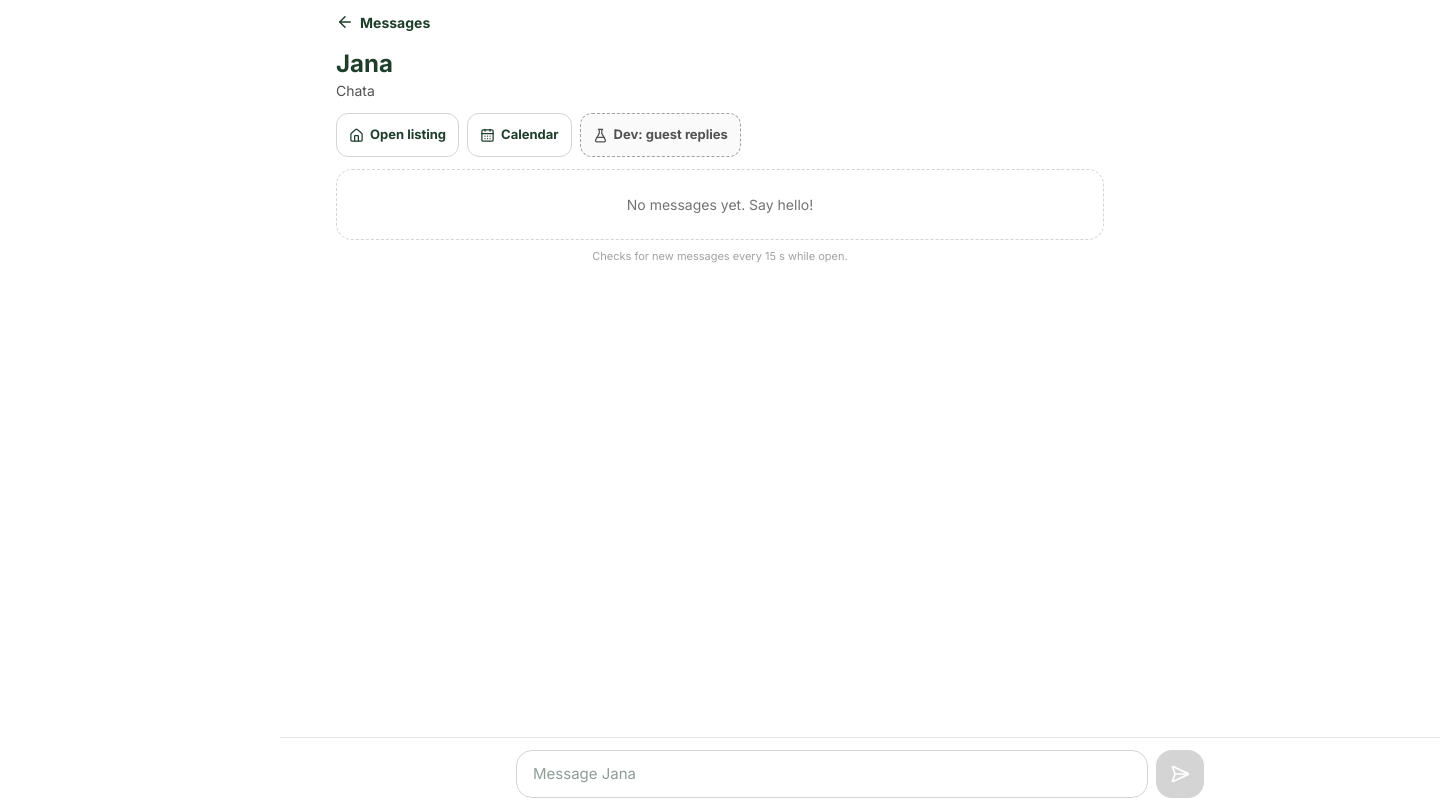
Scenario: ConversationPage failure recovery › keeps text typed during a rejected send and appends the rejected message on Edit
Step 1. Type "First message" into the text box labelled "Message" → (832, 774), box [516,750,1148,798]
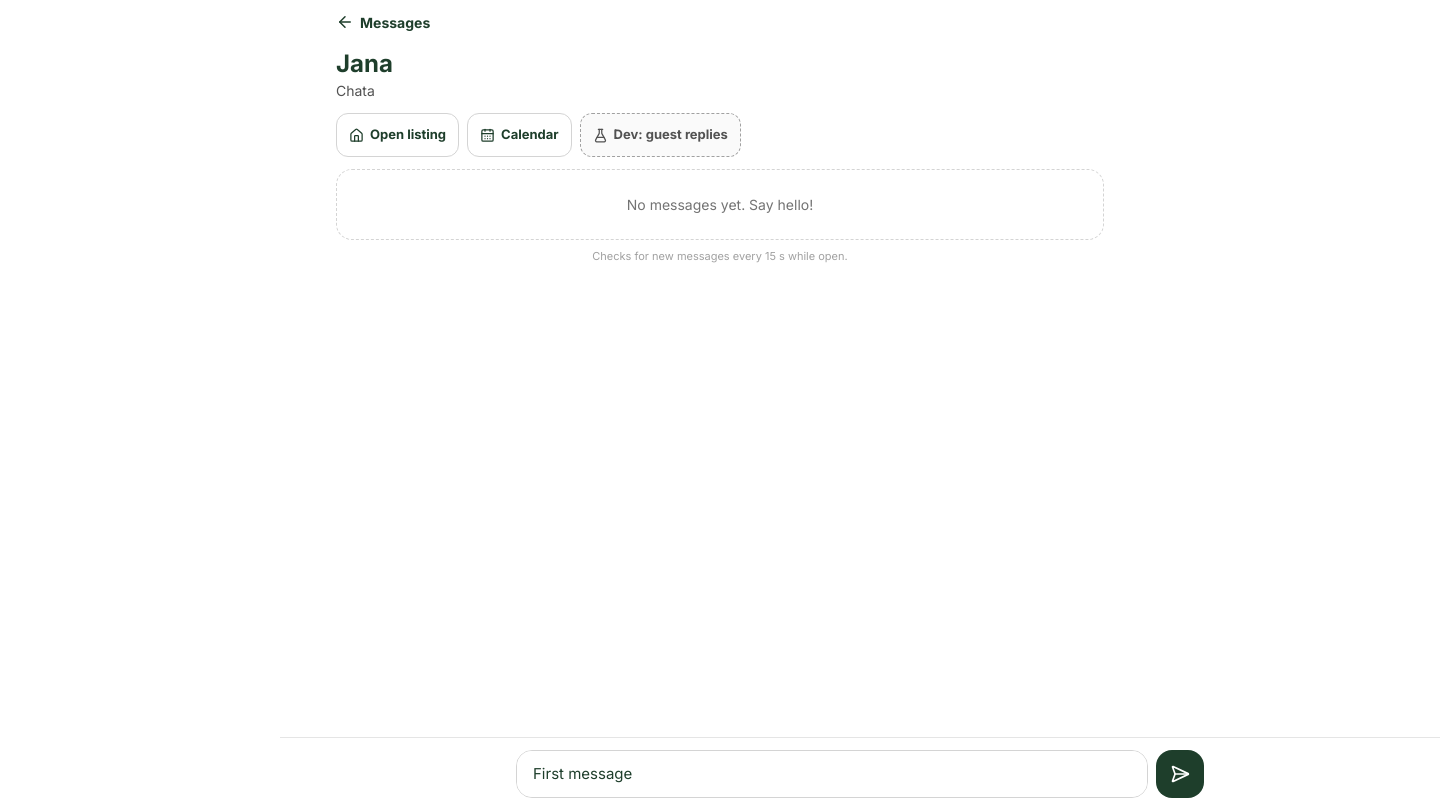
Step 2. Click the button named "Send" → (1180, 774), box [1156,750,1204,798]
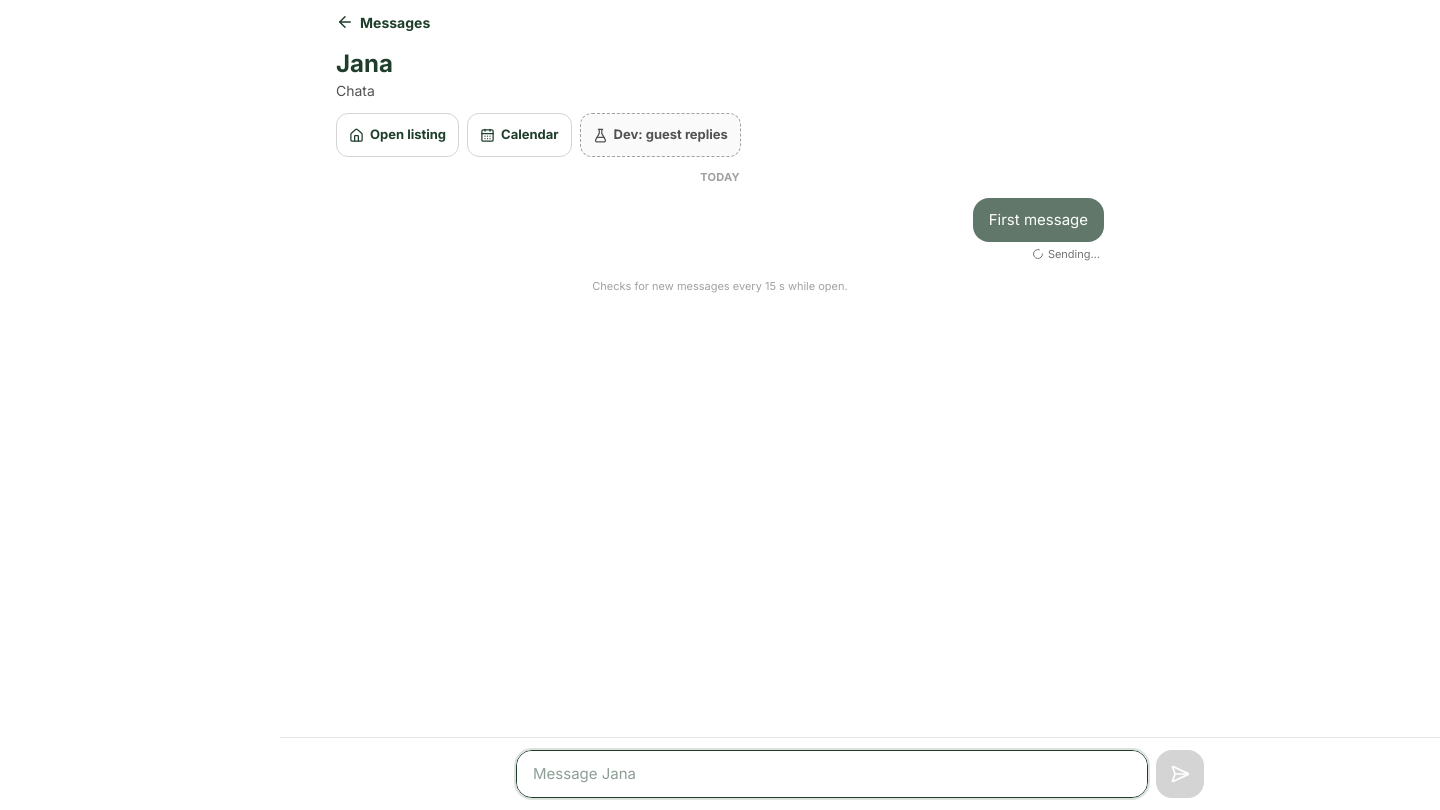
Expected: the text box labelled "Message" is empty
Expected: the text "Sending…" is shown, [1048,246,1100,262]
Note: The host keeps typing while the request is in flight…
Step 3. Type "Second thought" into the text box labelled "Message" → (832, 774), box [516,750,1148,798]
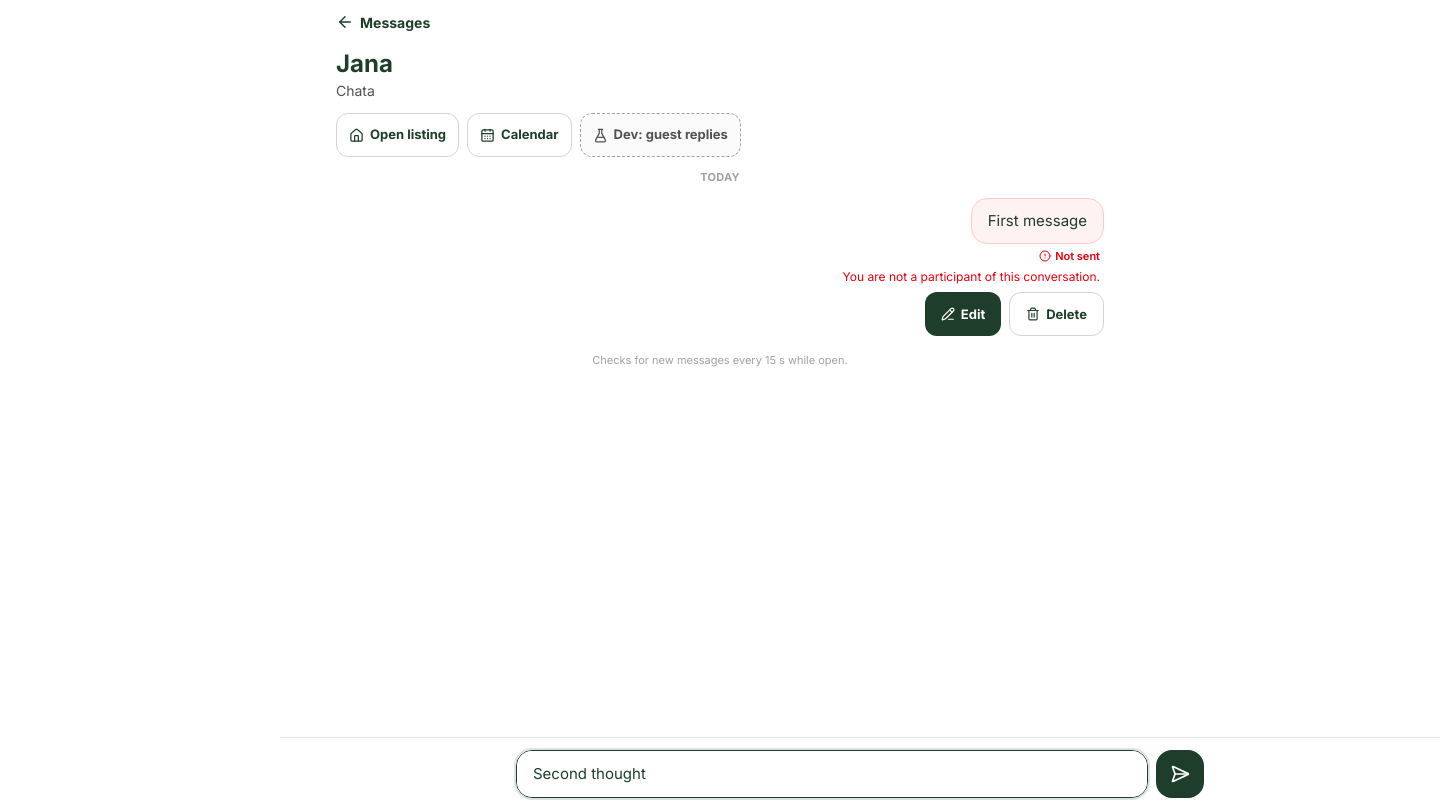
Expected: the text "First message" is shown, [971,198,1104,244]
Expected: the text "Not sent" is shown, [1055,248,1100,264]
Expected: the text "You are not a participant of this conversation." is shown, [839,268,1104,286]
Note: Edit puts the rejected text back after what the host typed meanwhile.
Step 4. Click the button "Edit" → (963, 314), box [925,292,1001,336]
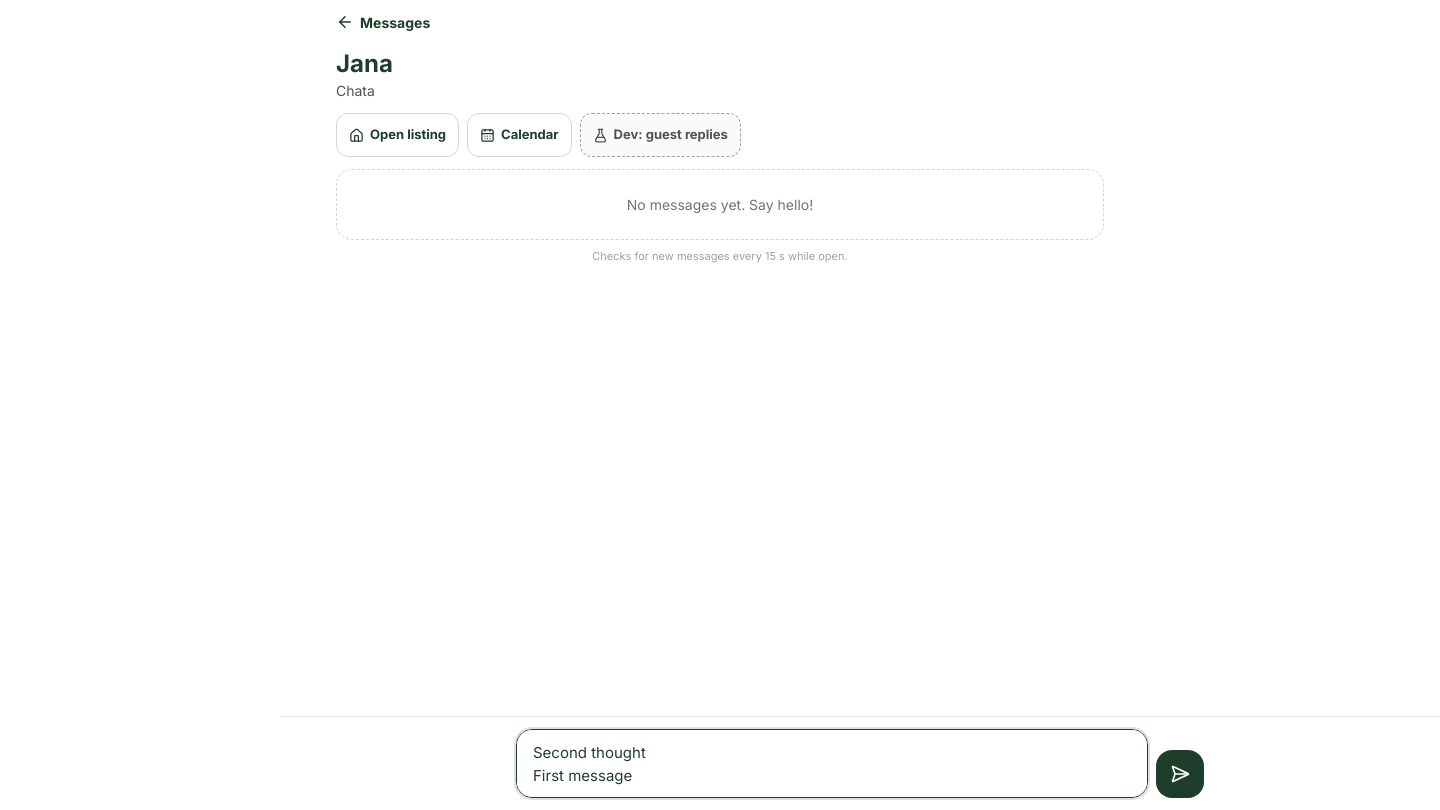
Expected: the text "Not sent" is gone
